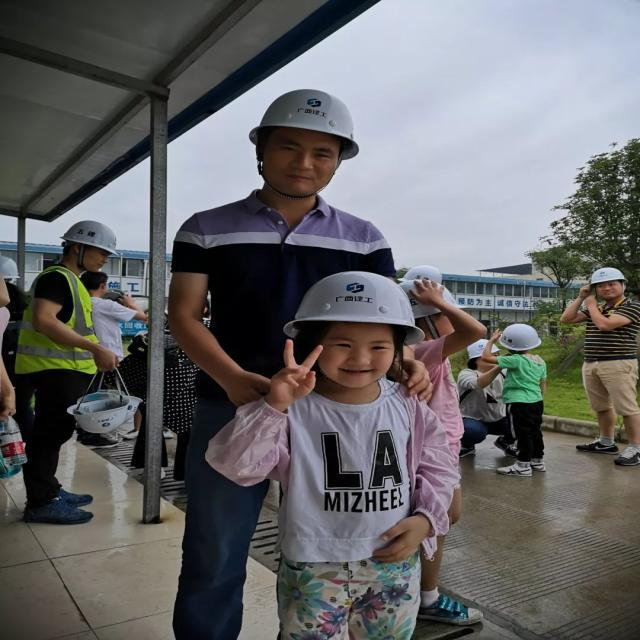reflective_jacket: (12, 265, 108, 375), (579, 294, 639, 360)
safety_helmet: (282, 265, 421, 335), (248, 85, 364, 155), (55, 218, 125, 257), (497, 320, 543, 352), (460, 337, 500, 361), (1, 251, 23, 291), (588, 264, 627, 286)
